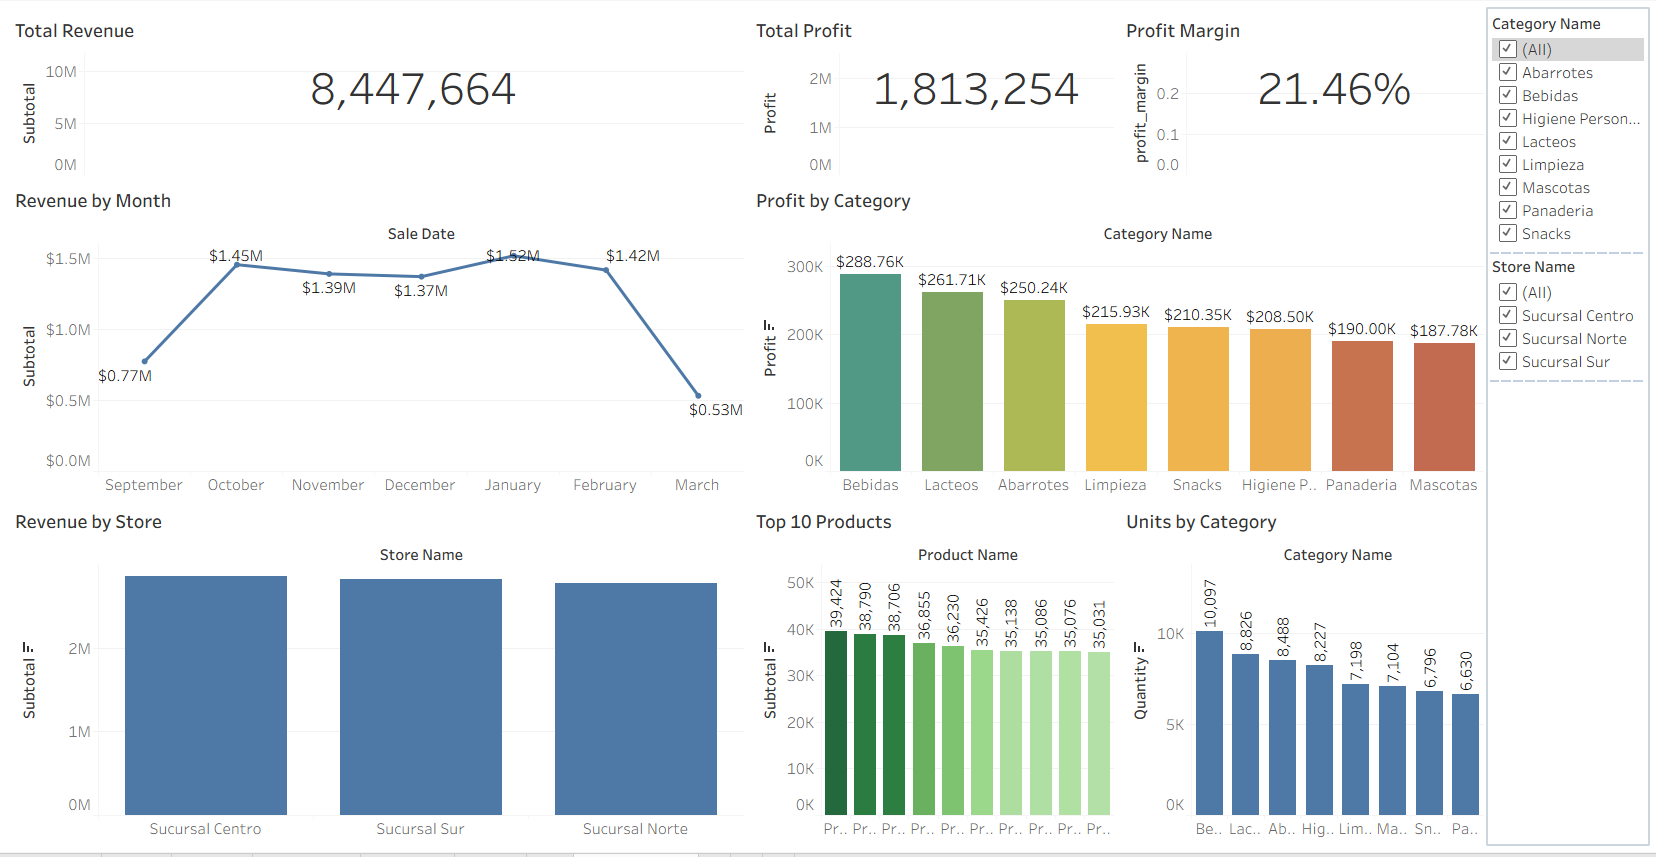

The page's visual inventory and layout, read from the dashboard file:
{"tool":"tableau","page":{"name":"Dashboard 1","canvas":[1000,1000],"units":"permille","ordinal":0},"visuals":[{"type":"worksheet","title":"T_Revenue","mark":"Text","rows":["subtotal"],"box":[4.8,9.4,446.9,199.8]},{"type":"worksheet","title":"T_Profit","mark":"Text","rows":["profit"],"box":[451.7,9.4,223.4,199.8]},{"type":"worksheet","title":"P/M","mark":"Text","rows":["Calculation_0744418955718656"],"box":[675.2,9.4,223.5,199.8]},{"type":"filter","title":"Profit_by_Cat","param":"[federated.1hkued61sh0u0e101vtiq1309cni].[none:category_name:nk]","box":[898.6,9.4,96.6,285.6]},{"type":"worksheet","title":"By_Month","mark":"Line","rows":["subtotal"],"cols":["sale_date"],"box":[4.8,209.2,446.9,377.2]},{"type":"worksheet","title":"Profit_by_Cat","mark":"Bar","rows":["profit"],"cols":["category_name"],"box":[451.7,209.2,446.9,377.2]},{"type":"filter","title":"By_Store","param":"[federated.1hkued61sh0u0e101vtiq1309cni].[none:store_name:nk]","box":[898.6,294.9,96.6,150.4]},{"type":"worksheet","title":"By_Store","mark":"Bar","rows":["subtotal"],"cols":["store_name"],"box":[4.8,586.4,446.9,404.2]},{"type":"worksheet","title":"Top_10","mark":"Bar","rows":["subtotal"],"cols":["product_name"],"box":[451.7,586.4,223.4,404.2]},{"type":"worksheet","title":"Cant_By_Cat","mark":"Bar","rows":["quantity"],"cols":["category_name"],"box":[675.2,586.4,223.5,404.2]}]}

Visuals, with their boxes on the dashboard's canvas, which has no fixed pixel size, in thousandths of its width and height (x1, y1, x2, y2). These are canvas units, not pixel positions in the 1656x857 screenshot, which may show the page scaled, cropped or inside an application window:
"T_Revenue" worksheet (Text marks): left=5, top=9, right=452, bottom=209
"T_Profit" worksheet (Text marks): left=452, top=9, right=675, bottom=209
"P/M" worksheet (Text marks): left=675, top=9, right=899, bottom=209
"Profit_by_Cat" filter: left=899, top=9, right=995, bottom=295
"By_Month" worksheet (Line marks): left=5, top=209, right=452, bottom=586
"Profit_by_Cat" worksheet (Bar marks): left=452, top=209, right=899, bottom=586
"By_Store" filter: left=899, top=295, right=995, bottom=445
"By_Store" worksheet (Bar marks): left=5, top=586, right=452, bottom=991
"Top_10" worksheet (Bar marks): left=452, top=586, right=675, bottom=991
"Cant_By_Cat" worksheet (Bar marks): left=675, top=586, right=899, bottom=991
